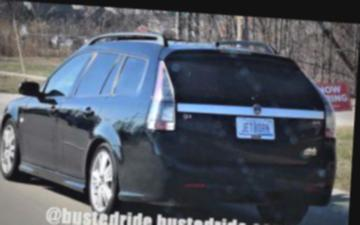License_Plate: (228, 110, 279, 145)
